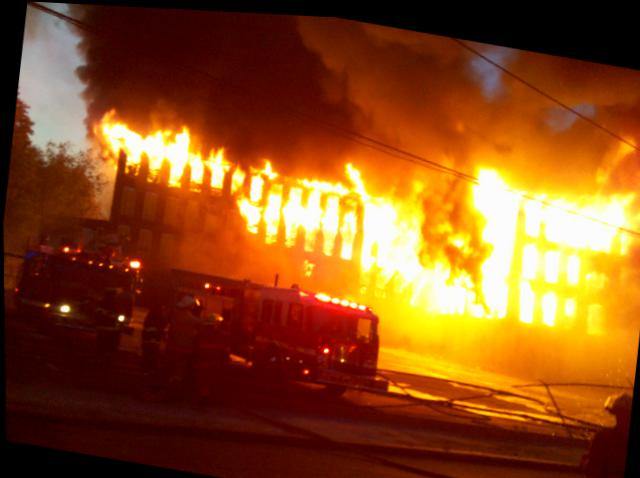fire: (466, 162, 639, 250), (475, 234, 587, 328), (238, 167, 361, 250), (376, 261, 470, 320), (132, 138, 237, 186), (359, 185, 425, 261), (108, 121, 132, 149)
smoke: (59, 2, 401, 99), (390, 23, 639, 138), (76, 48, 351, 143), (348, 88, 475, 163), (488, 107, 596, 175)
